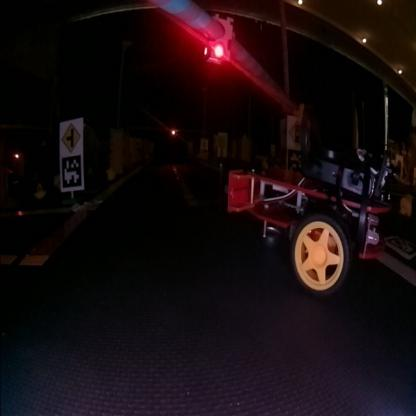Duckie: (36, 183, 46, 197)
Duckiebot: (228, 160, 395, 292)
Intersection sign: (62, 121, 82, 150)
QR code: (62, 152, 84, 188)
Traffic light: (204, 15, 234, 64)
